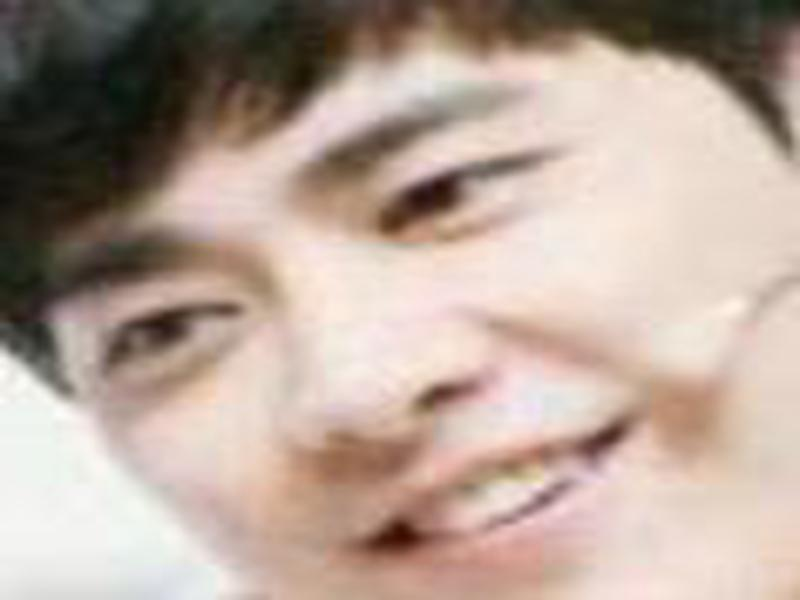without_mask: (27, 48, 791, 597)
